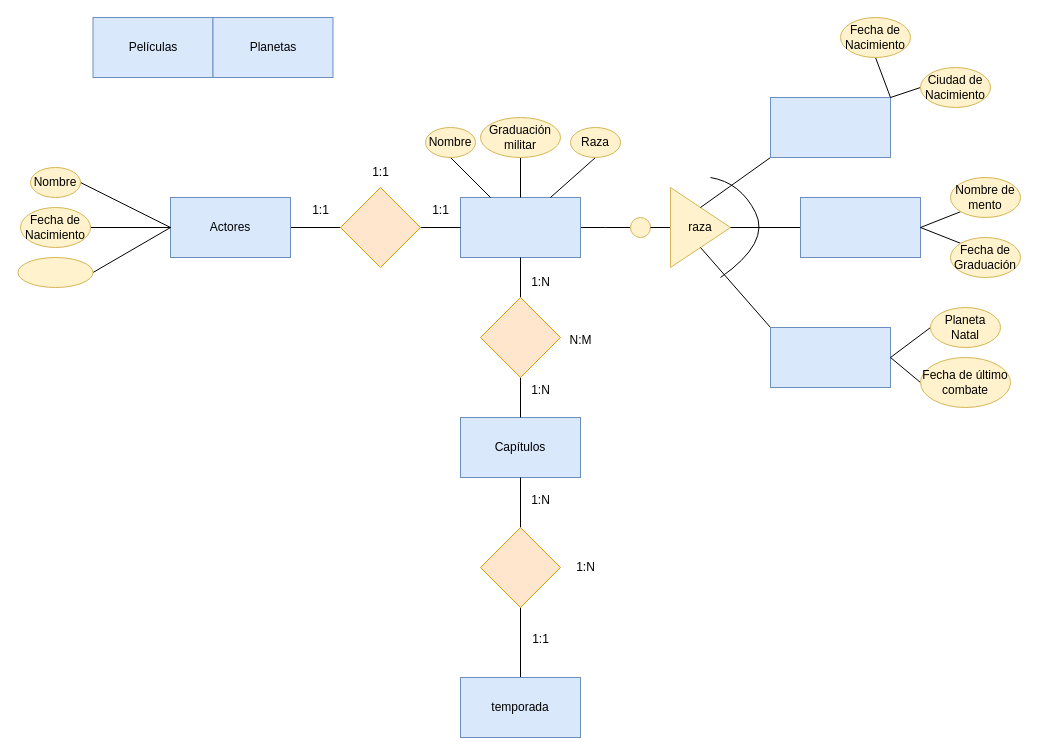
The diagram is 1038 pixels wide and 755 high, and some of its shapes have lost their labels. The centre of each missing label's shape, as x and y in pixels:
"actuan" goes at [380,227].
"humano" goes at [830,127].
"klingon" goes at [830,357].
"Nacionalidad" goes at [55,272].
"participan" goes at [520,337].
"Personajes" goes at [520,227].
"pertenecen" goes at [520,567].
"vulcano" goes at [860,227].
